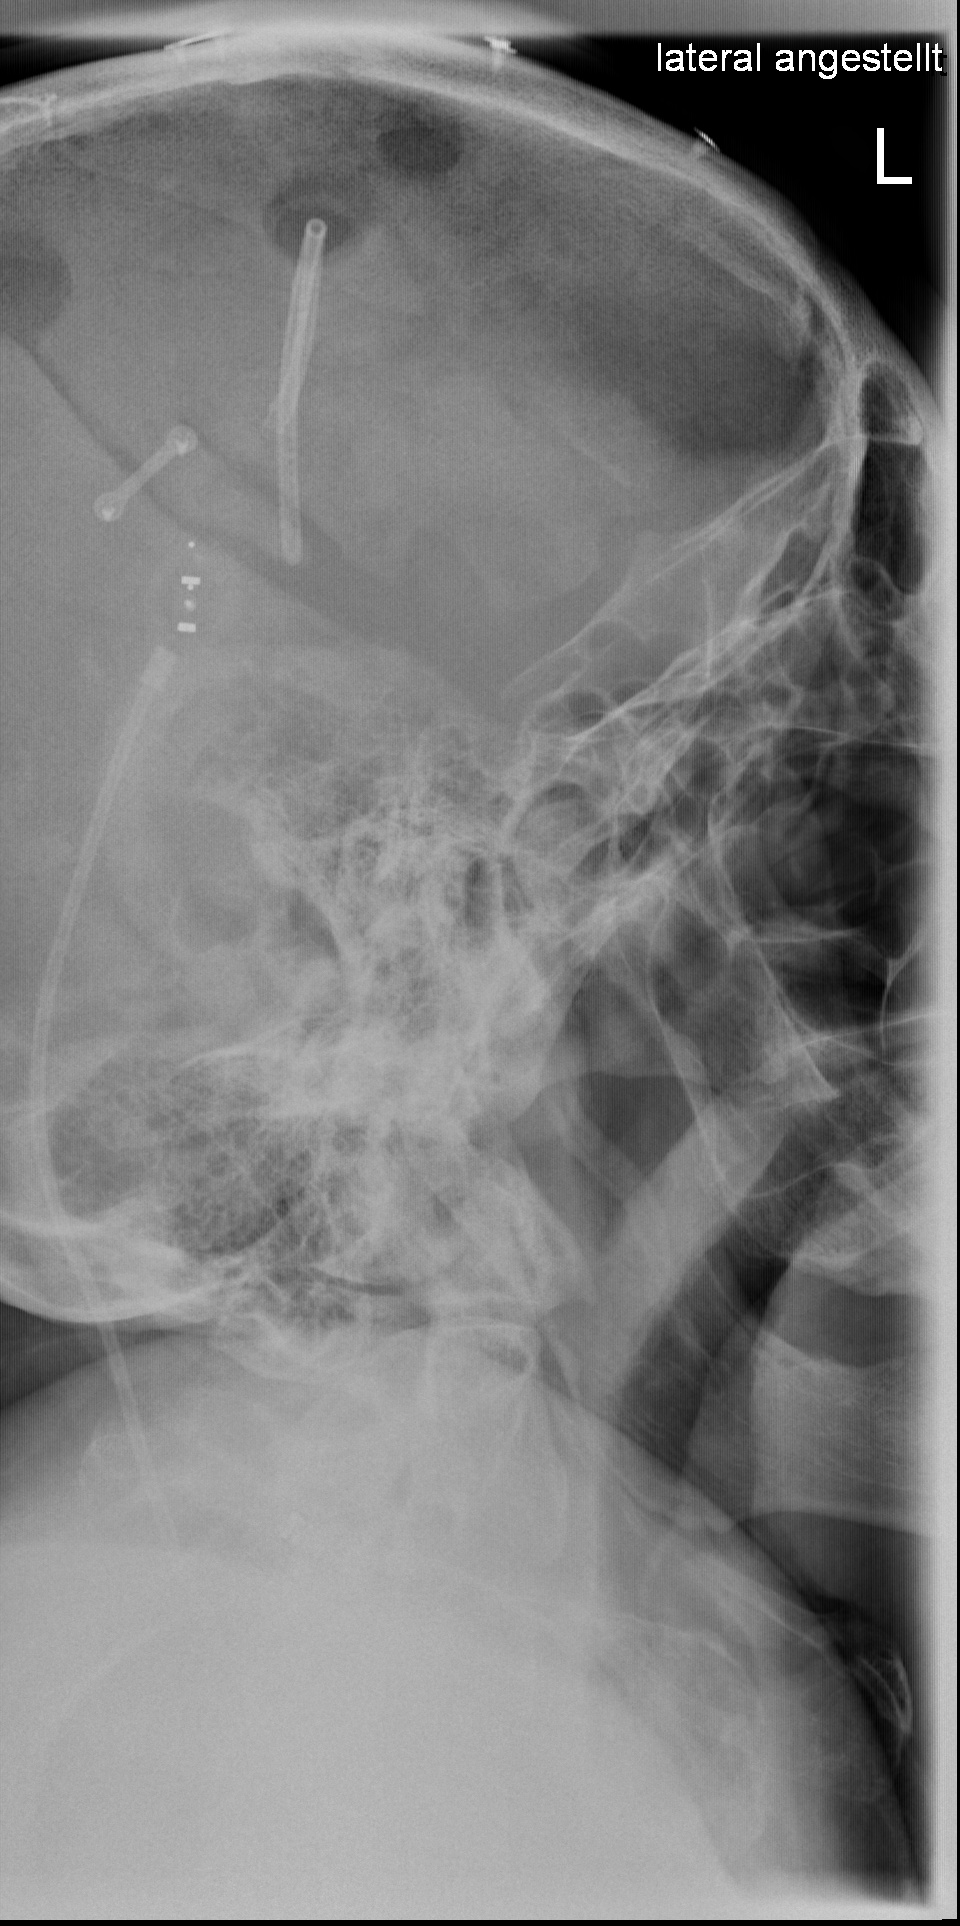Codman Certas: (141, 531, 241, 646)
